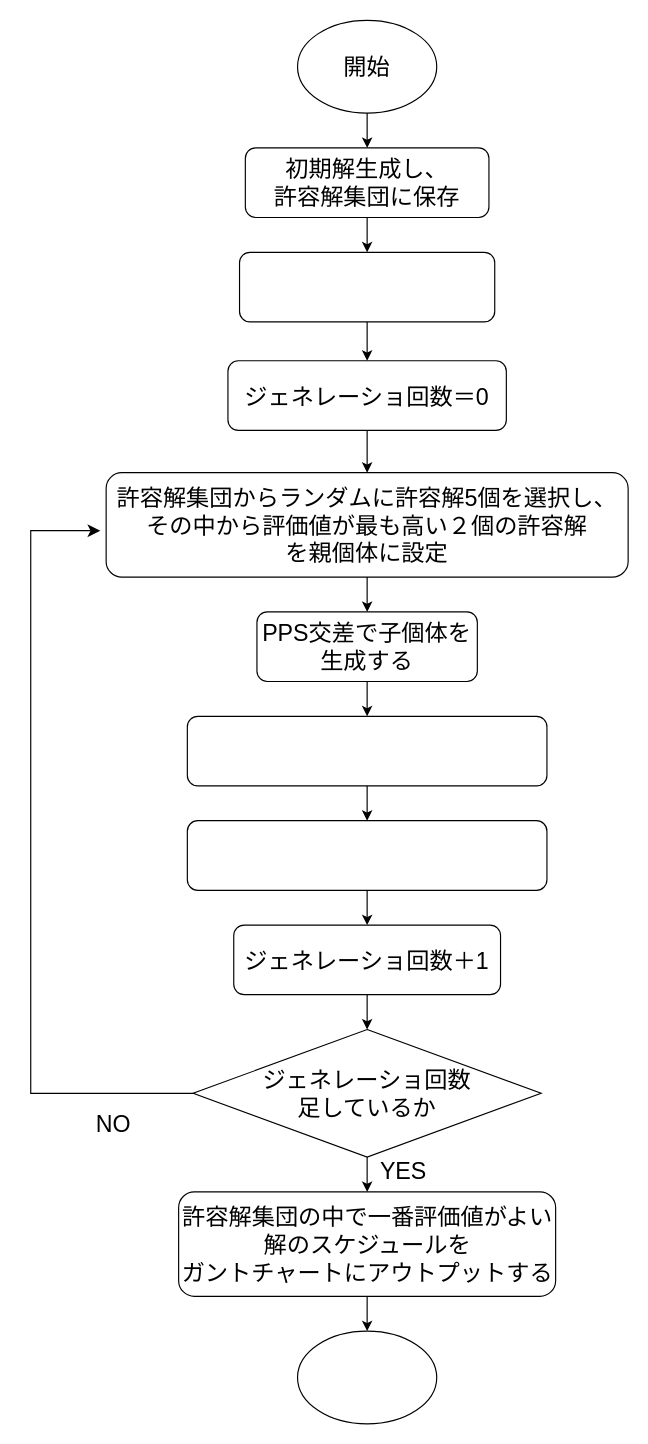
The diagram is 648 pixels wide and 1444 high, and some of its shapes have lost their labels. Here are the shapes that lost their labels. From the top down, the centre of each, then its label:
the point at 366,286: 許容解を適応度評価、 評価値を保存
the point at 366,750: 子個体を染色体修復処理し、 適応度評価し、評価値を保存する
the point at 366,855: 子個体を許容解集団に保存する
the point at 366,1377: 終わり
